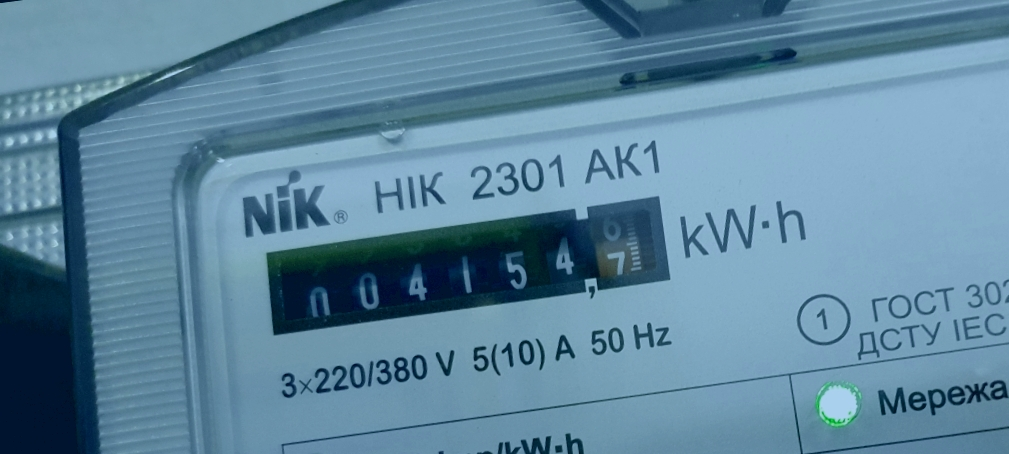0: (353, 268, 381, 312), (304, 280, 331, 317)
1: (456, 252, 475, 295)
4: (402, 259, 430, 303), (549, 231, 575, 277)
5: (501, 244, 530, 291)
6: (598, 210, 624, 242)
7: (603, 246, 628, 277)
screen: (244, 179, 689, 350)
